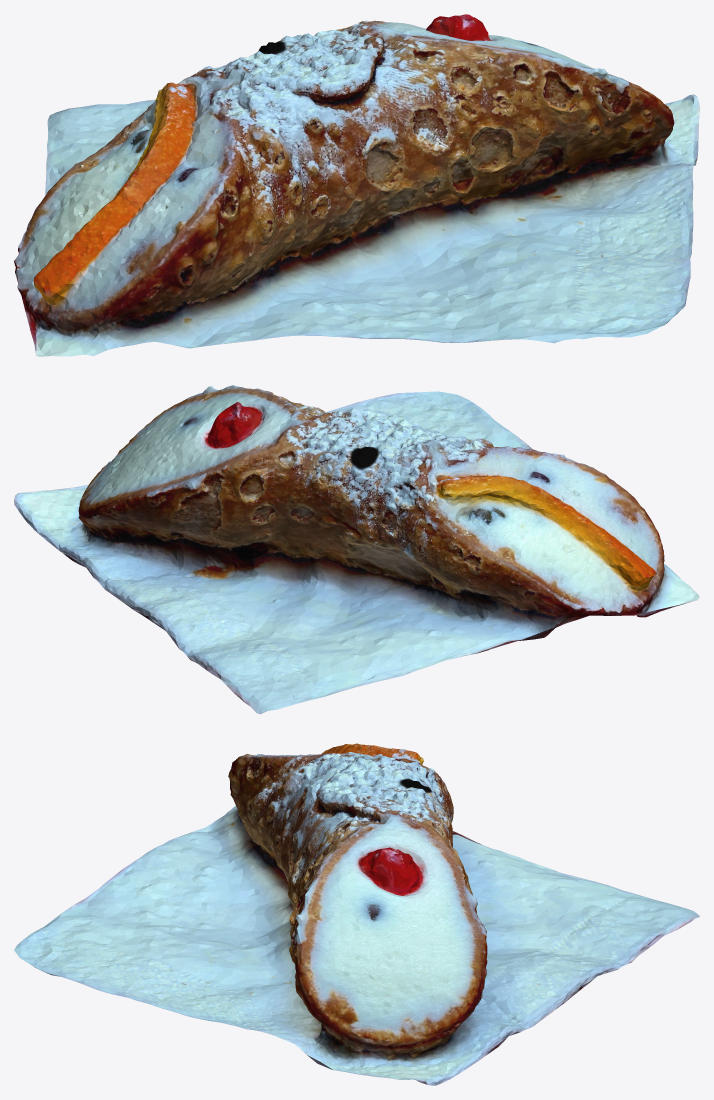
The picture shows the model from 3 angles, top to bottom: view 1: azimuth 30°, elevation 25°; view 2: azimuth 150°, elevation 25°; view 3: azimuth 270°, elevation 25°; orthographic projection. The views are drawn at different scales.
Visible parts, largest first — view 1: model_New Qlone_20250114_230544081; view 2: model_New Qlone_20250114_230544081; view 3: model_New Qlone_20250114_230544081.
Part boxes in pixels (<box>): model_New Qlone_20250114_230544081: <box>14,14,699,356</box>; model_New Qlone_20250114_230544081: <box>14,385,699,714</box>; model_New Qlone_20250114_230544081: <box>14,743,699,1085</box>.
Size of the model in its own units: 222 by 55.79 by 215.
Materials: 1 (1 with a texture image).
